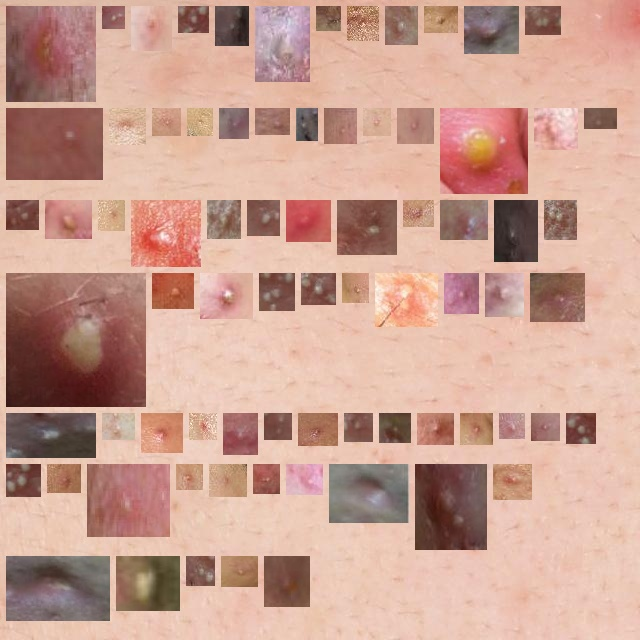pustule: (14, 281, 138, 399), (14, 14, 88, 94), (448, 116, 520, 186), (14, 116, 95, 172), (14, 564, 102, 613), (423, 472, 479, 542), (95, 472, 162, 529), (337, 472, 409, 515), (139, 208, 193, 259), (263, 14, 302, 74), (14, 421, 88, 450), (124, 564, 172, 603), (383, 281, 430, 319), (345, 208, 389, 247), (495, 208, 530, 254), (538, 281, 577, 314), (472, 14, 511, 46), (208, 281, 245, 311), (272, 564, 302, 599), (448, 208, 480, 232), (294, 208, 323, 234), (542, 116, 570, 142), (139, 14, 164, 43), (53, 208, 84, 231), (493, 281, 516, 309), (149, 421, 175, 445), (160, 281, 186, 301), (231, 421, 250, 447), (452, 281, 471, 306), (501, 472, 524, 492), (117, 116, 138, 137), (267, 281, 287, 303), (223, 14, 241, 38), (405, 116, 426, 136), (215, 208, 233, 231), (552, 208, 569, 232), (306, 421, 330, 438), (393, 14, 410, 37), (217, 472, 239, 489), (332, 116, 349, 136), (255, 208, 272, 228), (425, 421, 446, 437), (14, 472, 33, 489), (294, 472, 315, 487), (229, 564, 250, 579), (355, 14, 371, 33), (309, 281, 328, 297), (468, 421, 485, 437), (533, 14, 553, 27), (14, 208, 32, 222), (55, 472, 73, 485), (387, 421, 403, 435), (227, 116, 241, 131), (574, 421, 588, 436), (263, 116, 282, 127), (298, 116, 310, 133), (432, 14, 450, 25), (110, 421, 127, 432), (194, 564, 207, 578), (352, 421, 365, 434), (186, 14, 201, 25), (106, 208, 117, 223), (411, 208, 426, 219), (160, 116, 173, 128), (539, 421, 552, 433), (350, 281, 361, 295), (261, 472, 272, 486), (371, 116, 383, 128), (197, 421, 209, 432), (272, 421, 284, 432), (195, 116, 205, 128), (184, 472, 195, 482), (507, 421, 517, 431), (324, 14, 333, 23), (110, 14, 117, 21)
